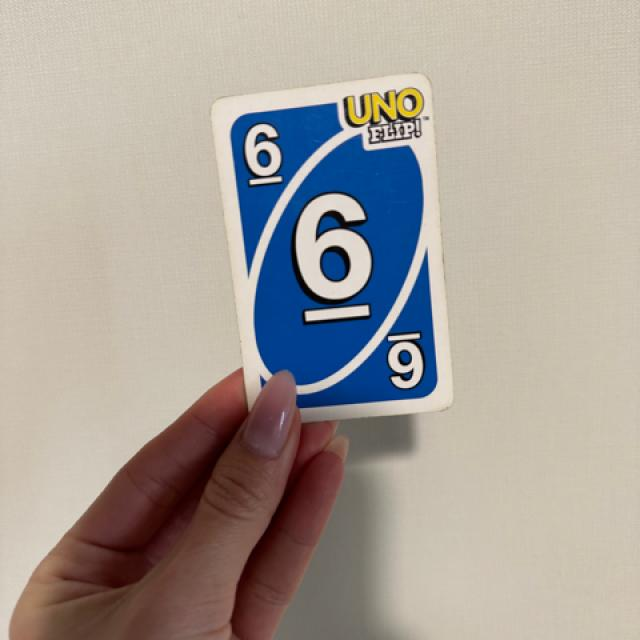lblue-6: (224, 105, 298, 199)
